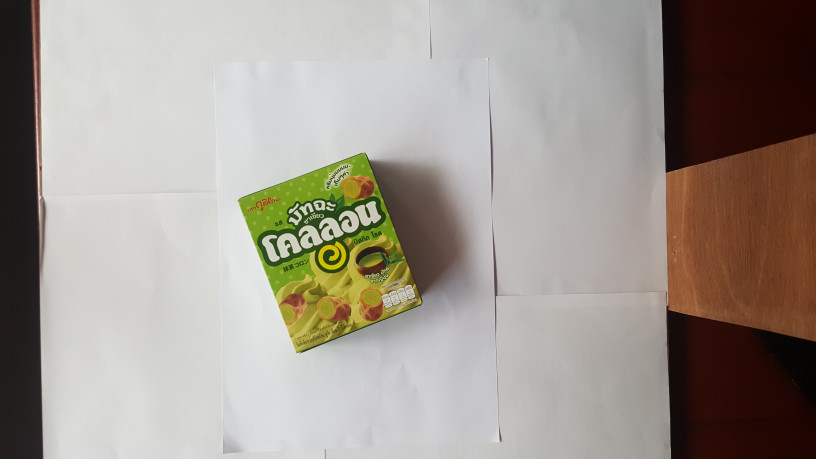collon-matcha: (233, 149, 425, 355)
